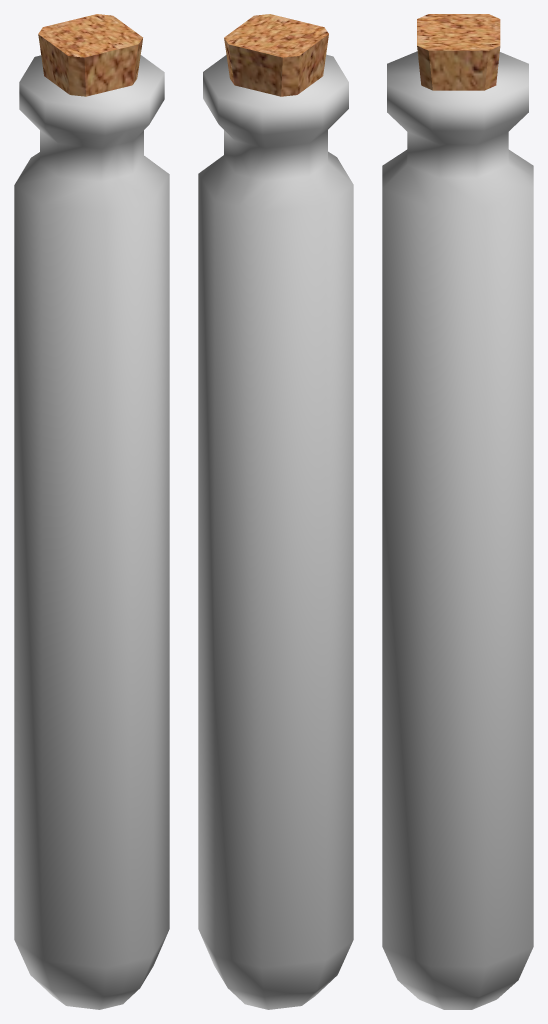
The model's file is Potion03_Blue.fbx.
The picture shows the model from 3 angles, left to right: view 1: azimuth 30°, elevation 25°; view 2: azimuth 150°, elevation 25°; view 3: azimuth 270°, elevation 25°; orthographic projection.
Visible parts, largest first — view 1: Cube, Cube.002; view 2: Cube, Cube.002; view 3: Cube, Cube.002.
Part boxes in pixels (left/top/right/bottom): Cube: left=14, top=55, right=169, bottom=1009; Cube.002: left=38, top=14, right=142, bottom=96; Cube: left=198, top=54, right=353, bottom=1009; Cube.002: left=224, top=14, right=328, bottom=96; Cube: left=382, top=51, right=533, bottom=1009; Cube.002: left=417, top=14, right=500, bottom=90.
Size of the model in its own units: 0.3793 by 2.72 by 0.3884.
